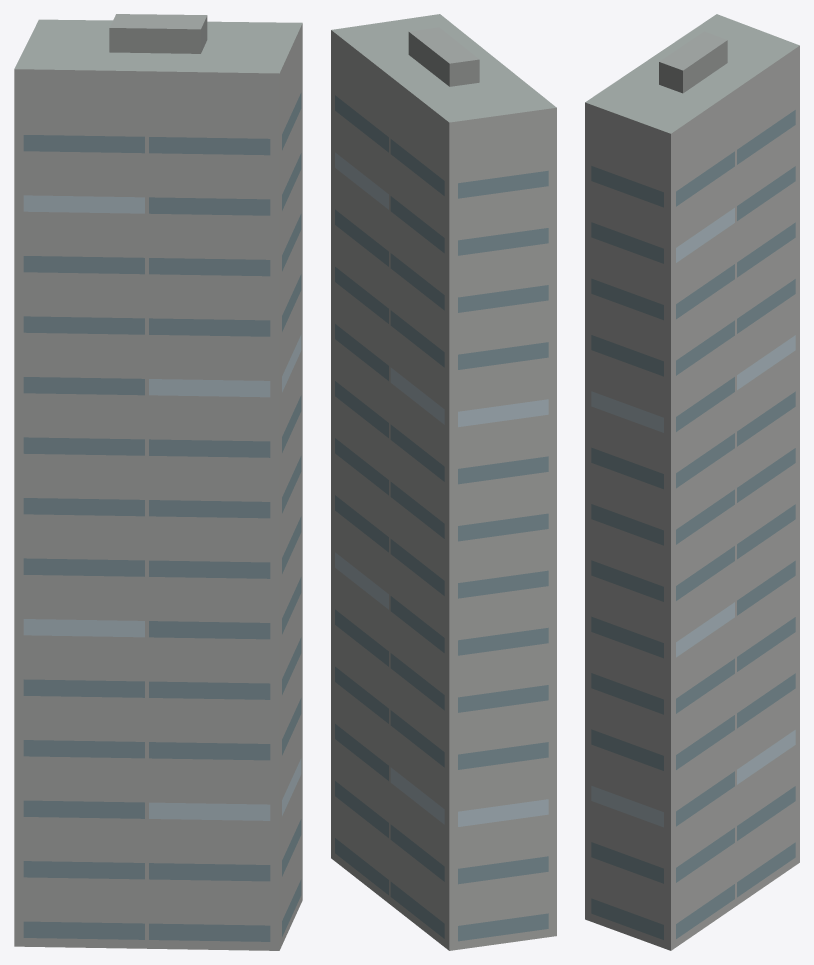
File: fallback-jamsil-ricenz-210.glb
The picture shows the model from 3 angles, left to right: view 1: azimuth 30°, elevation 25°; view 2: azimuth 150°, elevation 25°; view 3: azimuth 270°, elevation 25°; orthographic projection. The views are drawn at different scales.
Parts seen in each view (by area): view 1: fallback-jamsil-ricenz-210; view 2: fallback-jamsil-ricenz-210; view 3: fallback-jamsil-ricenz-210.
Boxes of the visible parts, x1,y1,x2,y2 form: fallback-jamsil-ricenz-210: (14,14,302,950); fallback-jamsil-ricenz-210: (331,14,556,950); fallback-jamsil-ricenz-210: (585,14,799,950).
Bounding box in the file's own units: 26.93 × 88 × 20.41.
